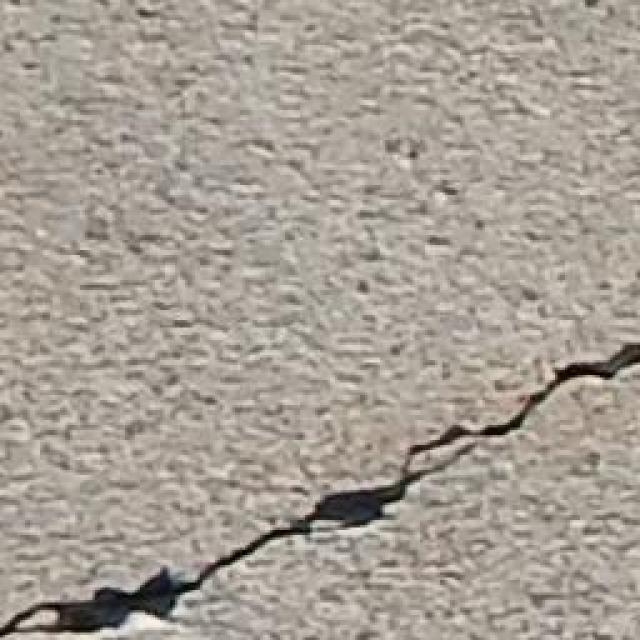concrete-crack: (0, 332, 639, 638)
